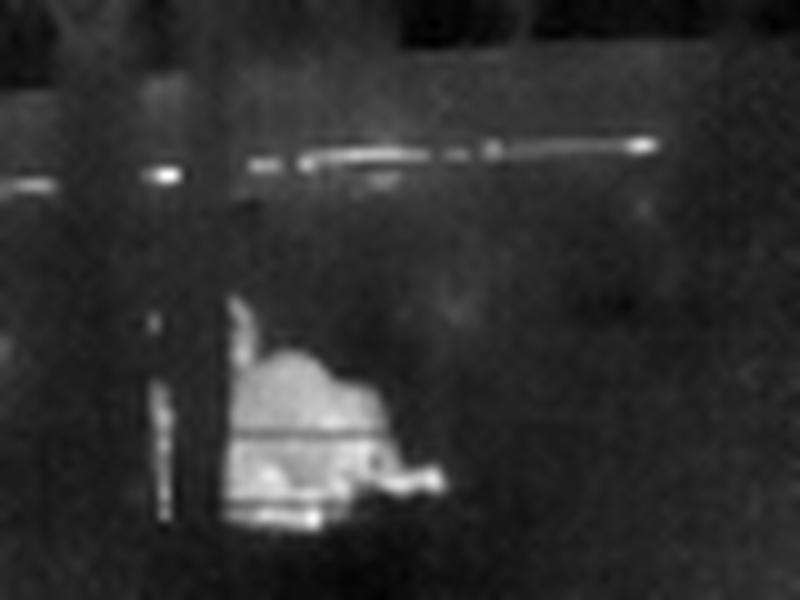elephant: (113, 302, 424, 535)
